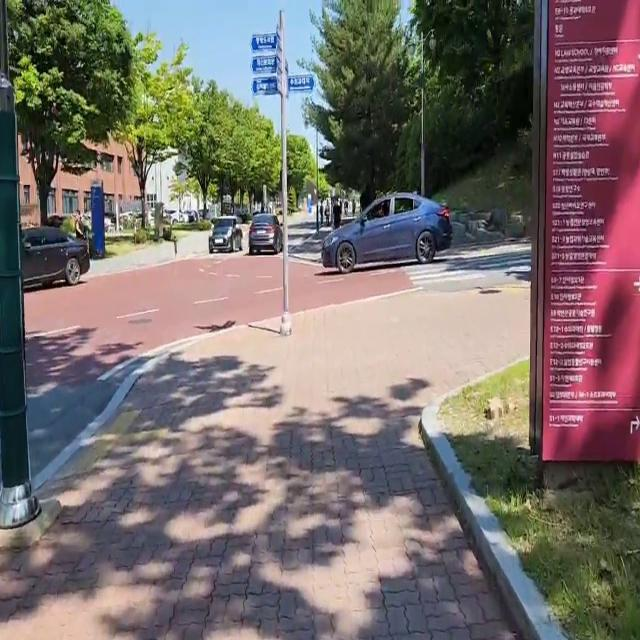car: (315, 189, 455, 273), (19, 224, 90, 295), (247, 209, 284, 258), (205, 211, 242, 257)
human: (330, 192, 345, 230)
streetlamp: (402, 22, 438, 196)
